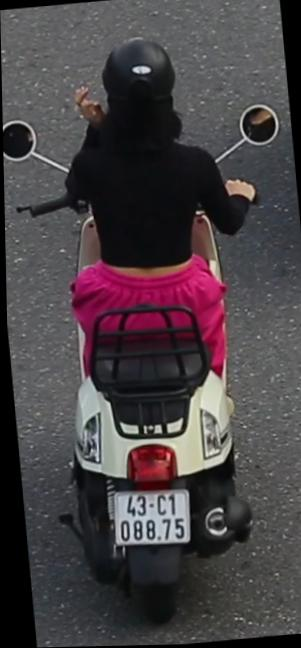LP: (107, 478, 191, 556)
helmet: (91, 32, 185, 162)
